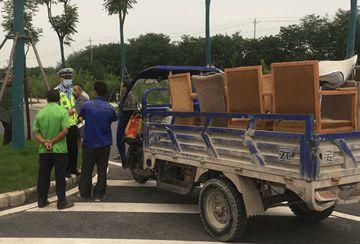empty: (118, 63, 359, 233)
